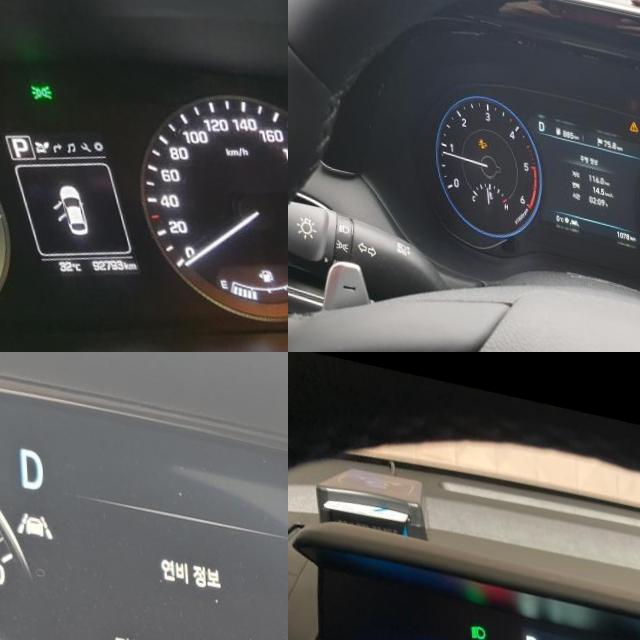LaneCenteringOff: (11, 506, 48, 536)
Low beam: (467, 611, 482, 629)
SideLamp: (25, 66, 51, 91)
